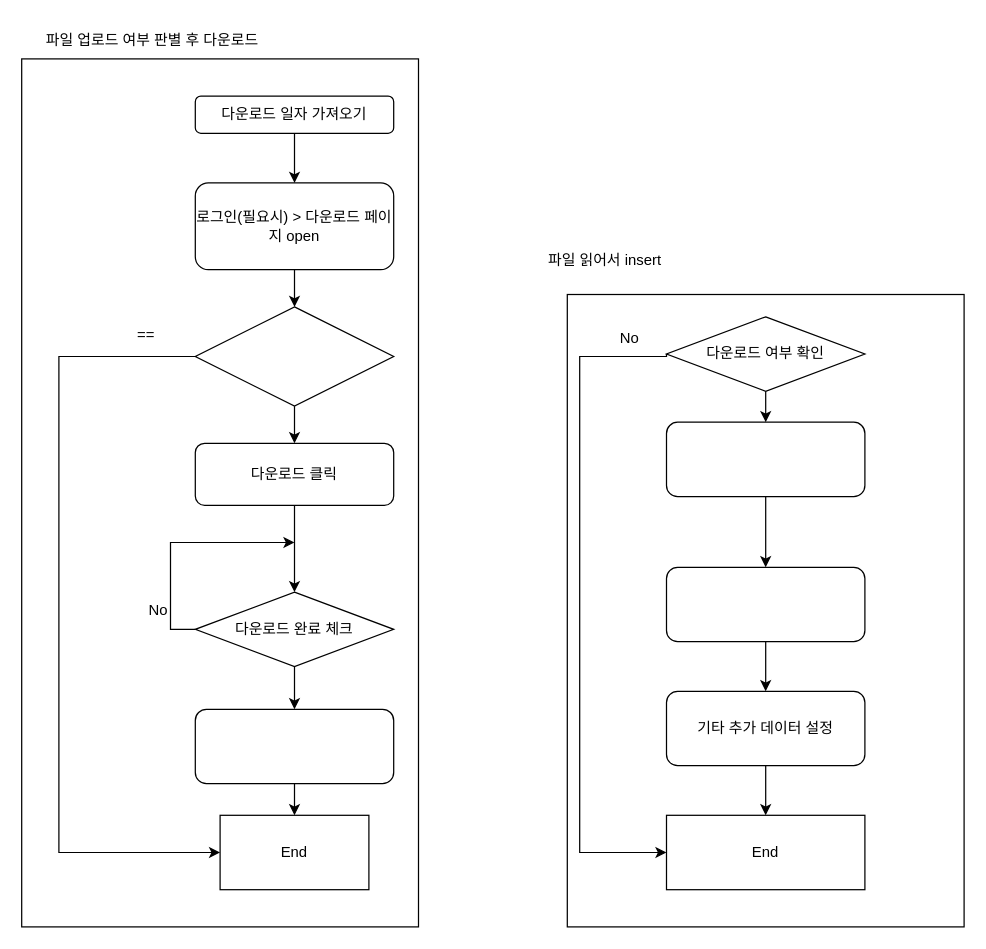
The diagram is 986 pixels wide and 949 high, and some of its shapes have lost their labels. Here are the shapes that lost their labels. From the top down, the centre of each, then its label:
At (x=294, y=356): "기존 업데이트 비교".
At (x=765, y=459): "압축해제 및 100만 row단위 slice".
At (x=765, y=604): "update 및 삭제 후 insert".
At (x=294, y=746): "다운로드 날짜 변경".
